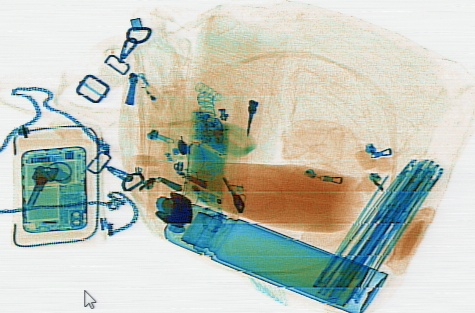lighter: (135, 71, 167, 109)
